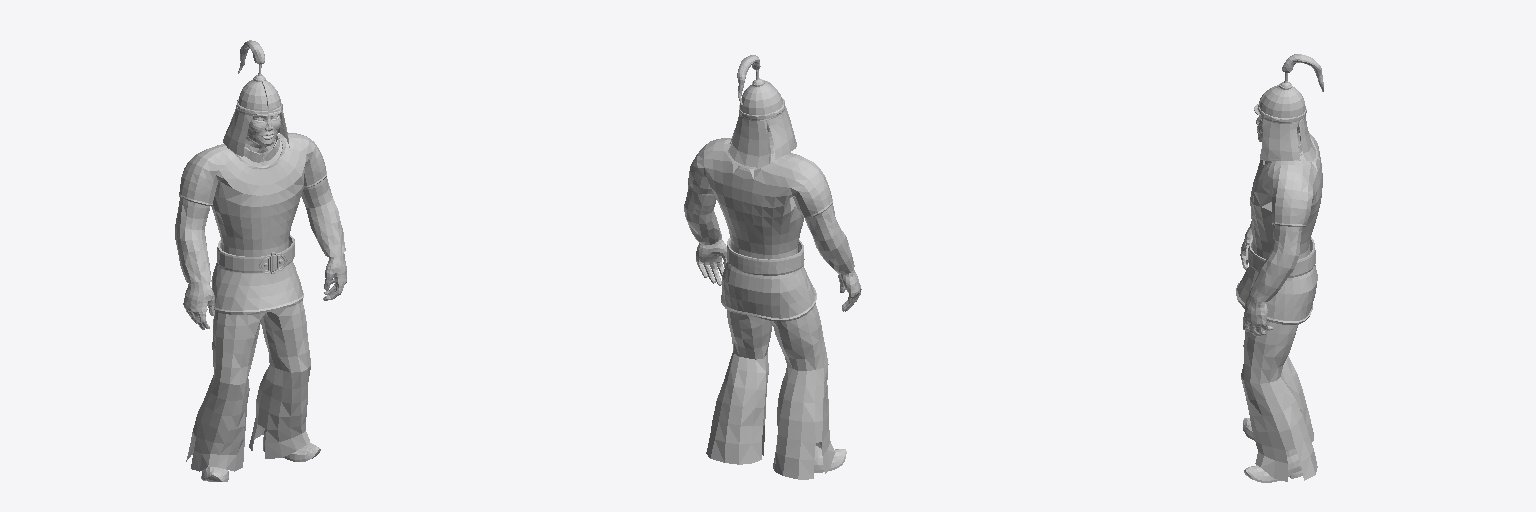
Rendered from ORAK.obj.
3 renders of one model, left to right at view 1: azimuth 30°, elevation 25°; view 2: azimuth 150°, elevation 25°; view 3: azimuth 270°, elevation 25°, orthographic.
Visible parts, largest first — view 1: Orak:Body.001_Mesh.031; view 2: Orak:Body.001_Mesh.031; view 3: Orak:Body.001_Mesh.031.
Part boxes in pixels (left/top/right/bottom): Orak:Body.001_Mesh.031: left=175, top=40, right=346, bottom=481; Orak:Body.001_Mesh.031: left=684, top=55, right=861, bottom=479; Orak:Body.001_Mesh.031: left=1236, top=54, right=1323, bottom=482.
Bounding box in the file's own units: 0.8988 × 2.19 × 0.4303.